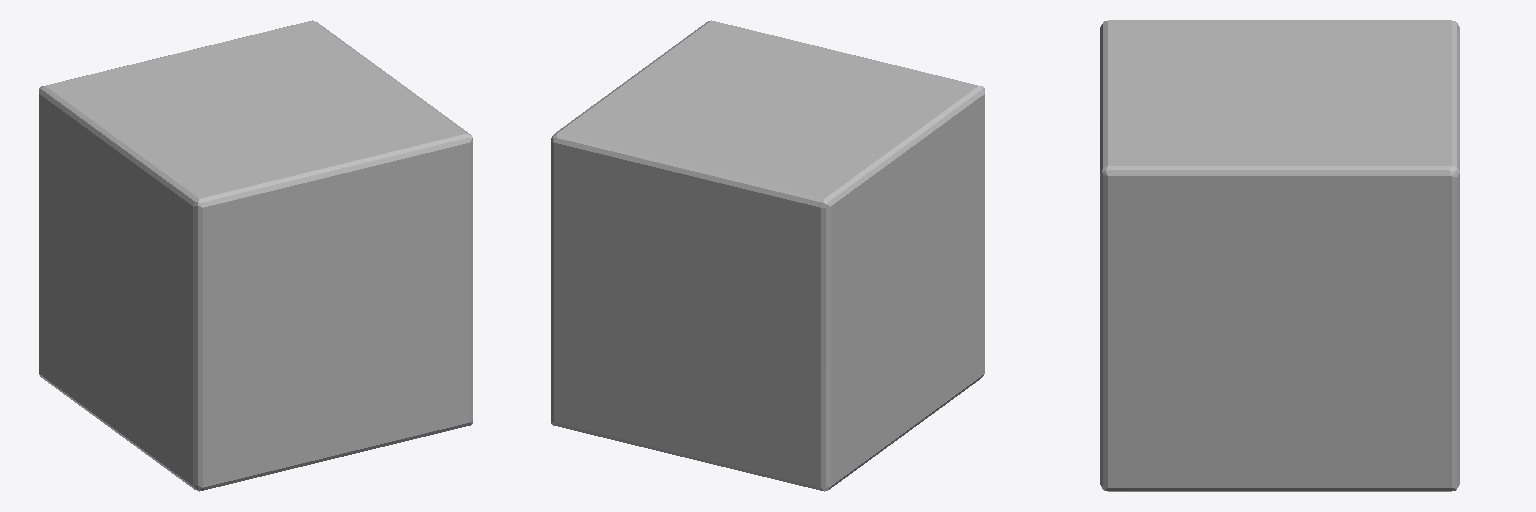
The robot description file, URDF, robot "root":
<robot name="root">
  <link name="link_coacd_convex_piece_0">
    <inertial>
      <origin xyz="0 0 0" rpy="0 0 0"/>
      <mass value="1.40E+00"/>
      <inertia ixx="3.00E-01" ixy="1.36E-06" ixz="1.35E-06" iyy="3.00E-01" iyz="1.36E-06" izz="3.00E-01"/>
    </inertial>
    <visual>
      <origin xyz="0 0 0" rpy="0 0 0"/>
      <geometry>
        <mesh filename="coacd_convex_piece_0.obj" scale="1.0000E+00 1.0000E+00 1.0000E+00"/>
      </geometry>
      <material name="">
        <color rgba="7.50E-01 7.50E-01 7.50E-01 1"/>
      </material>
    </visual>
    <collision>
      <origin xyz="0 0 0" rpy="0 0 0"/>
      <geometry>
        <mesh filename="coacd_convex_piece_0.obj" scale="1.0000E+00 1.0000E+00 1.0000E+00"/>
      </geometry>
    </collision>
  </link>
</robot>

--- Render facts (derived) ---
The picture shows the robot from 3 angles, left to right: view 1: azimuth 30°, elevation 25°; view 2: azimuth 150°, elevation 25°; view 3: azimuth 270°, elevation 25°; orthographic projection.
Robot: root — 1 links, 0 joints (none); root link link_coacd_convex_piece_0; default pose: all joints at 0.
Links seen in each view (by area): view 1: link_coacd_convex_piece_0; view 2: link_coacd_convex_piece_0; view 3: link_coacd_convex_piece_0.
Boxes of the visible links, x1=… form: link_coacd_convex_piece_0: x1=39, y1=20, x2=472, y2=491; link_coacd_convex_piece_0: x1=551, y1=20, x2=984, y2=491; link_coacd_convex_piece_0: x1=1100, y1=20, x2=1459, y2=491.
Bounding box of the posed robot: 1.14 × 1.14 × 1.14 m (x, y, z).
1 mesh visuals loaded from 1 distinct referenced files (1 OBJ).